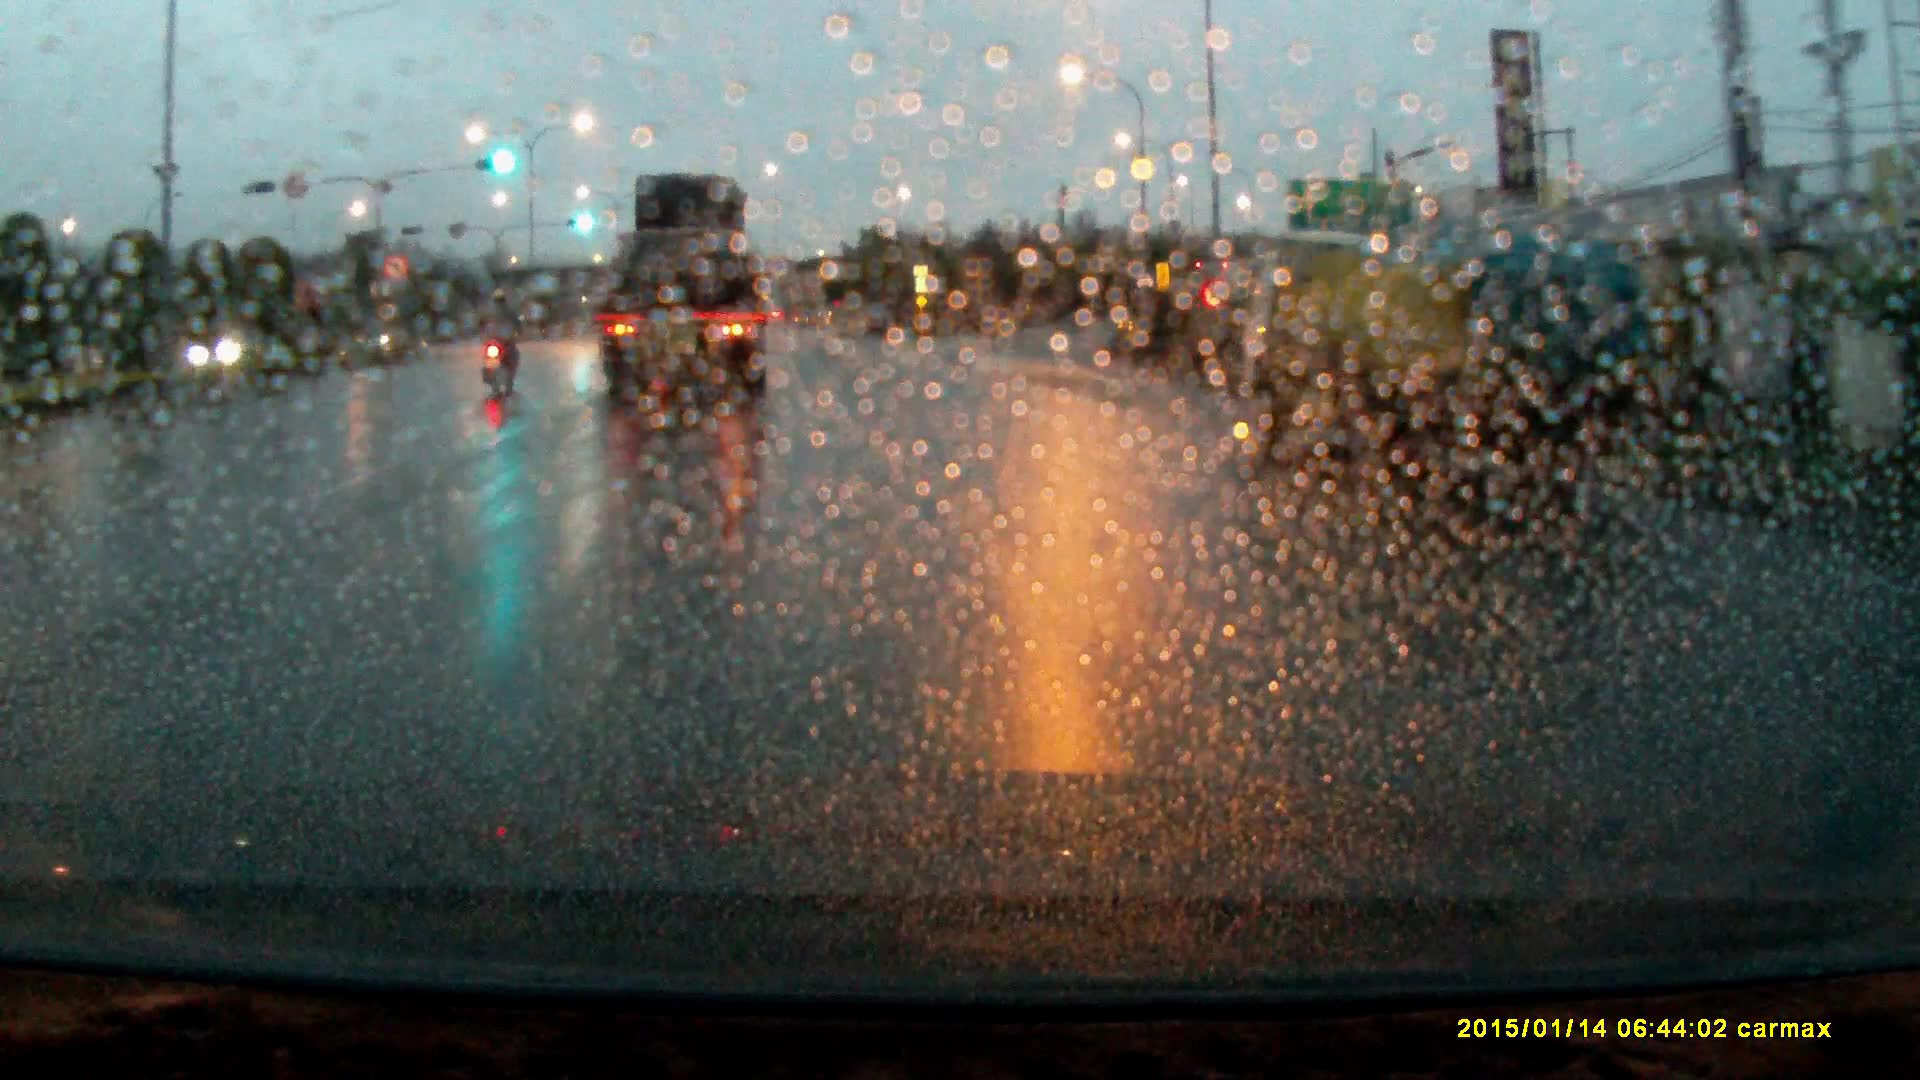rider: (477, 287, 526, 399)
vehicle: (1242, 213, 1633, 472), (597, 173, 771, 400)
